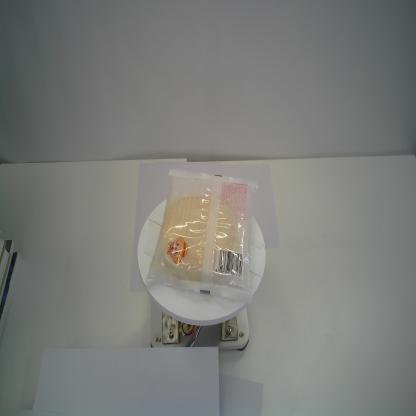Dessert: (146, 167, 258, 304)
